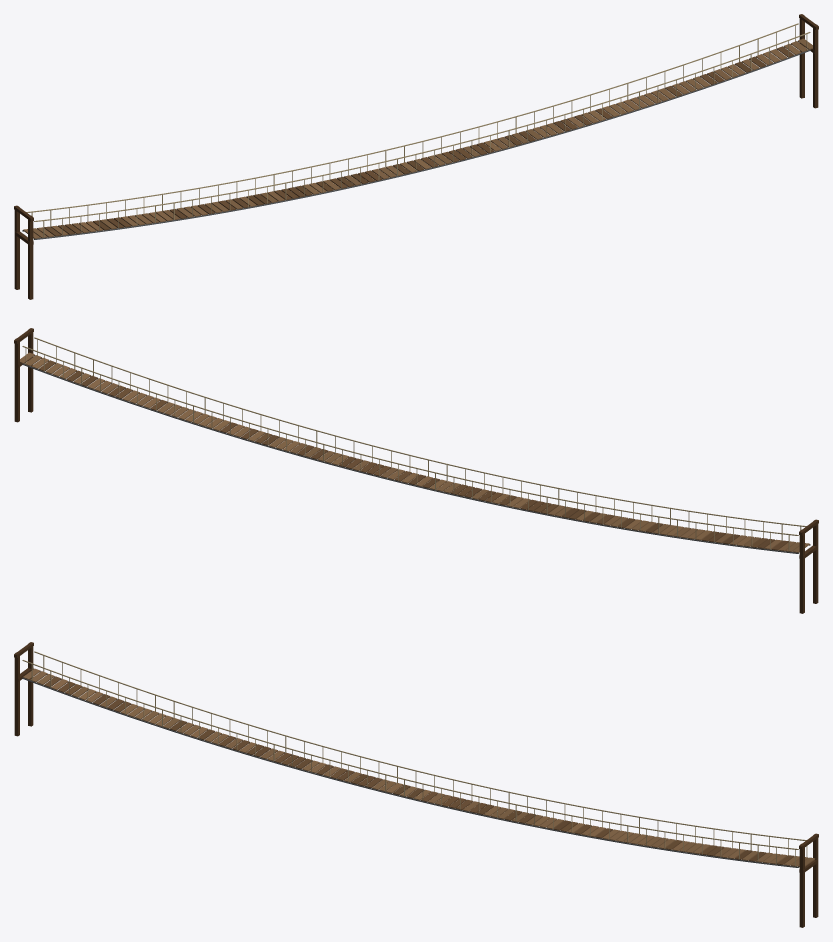
File: jambatangantung.fbx
3 views of the same model, one above another, from view 1: azimuth 30°, elevation 25°; view 2: azimuth 150°, elevation 25°; view 3: azimuth 330°, elevation 25° (orthographic).
Visible parts, largest first — view 1: jambatangantung; view 2: jambatangantung; view 3: jambatangantung.
Part boxes in pixels (box(x1,y1,x2,y2)): jambatangantung: box(14, 14, 818, 299); jambatangantung: box(14, 328, 818, 613); jambatangantung: box(14, 642, 818, 927).
Bounding box in the file's own units: 50.85 × 5.05 × 1.9.
